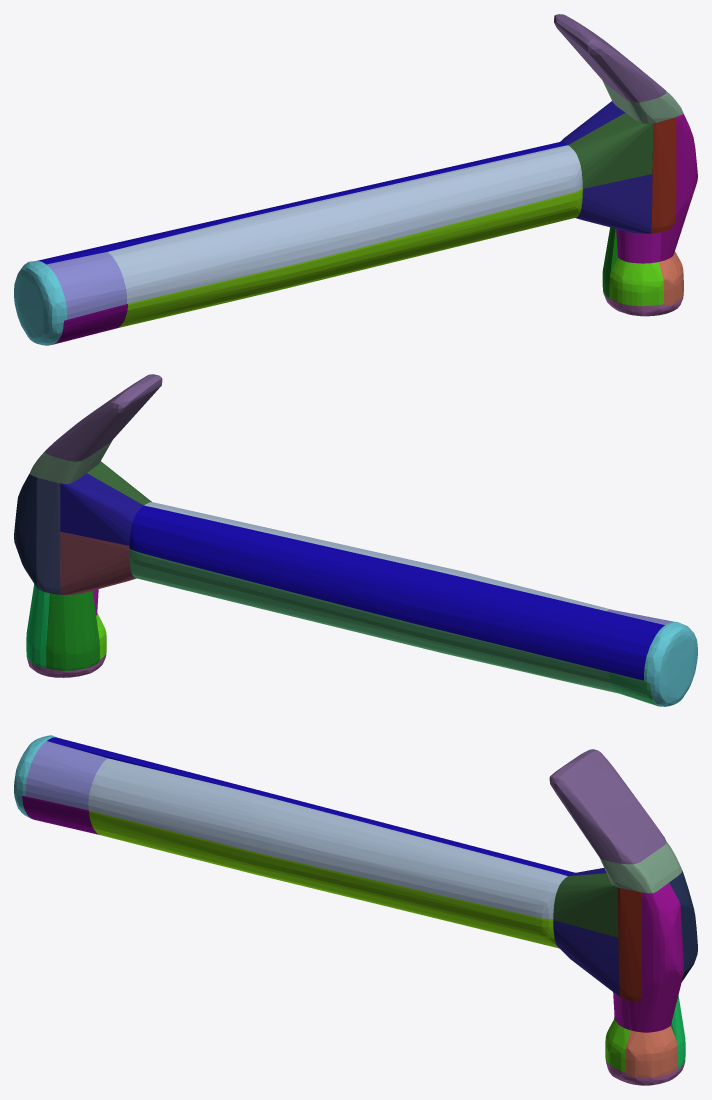
Rendered from coacd_collision.obj.
3 renders of one model, top to bottom at view 1: azimuth 30°, elevation 25°; view 2: azimuth 150°, elevation 25°; view 3: azimuth 330°, elevation 25°, orthographic.
Visible parts, largest first — view 1: geometry_6, geometry_4, geometry_19, geometry_12, geometry_1, geometry_2, geometry_18, geometry_5, geometry_15, geometry_14, geometry_17, geometry_0 (+6 smaller); view 2: geometry_5, geometry_3, geometry_20, geometry_8, geometry_1, geometry_13, geometry_2, geometry_16, geometry_6, geometry_21, geometry_23, geometry_0 (+3 smaller); view 3: geometry_6, geometry_4, geometry_1, geometry_14, geometry_12, geometry_19, geometry_5, geometry_18, geometry_15, geometry_9, geometry_0, geometry_11 (+5 smaller).
Part boxes in pixels (x1,y1,x2,y2): geometry_6: (108, 145, 582, 303); geometry_4: (117, 188, 582, 328); geometry_19: (568, 113, 653, 188); geometry_12: (46, 252, 126, 319); geometry_1: (554, 14, 666, 102); geometry_2: (14, 261, 67, 345); geometry_18: (575, 174, 652, 233); geometry_5: (37, 142, 567, 264); geometry_15: (650, 117, 676, 233); geometry_14: (660, 114, 697, 261); geometry_17: (609, 258, 663, 306); geometry_0: (602, 80, 683, 123); geometry_5: (129, 505, 664, 680); geometry_3: (129, 548, 618, 693); geometry_20: (60, 473, 143, 545); geometry_8: (46, 591, 99, 670); geometry_1: (45, 374, 162, 461); geometry_13: (60, 531, 136, 594); geometry_2: (644, 621, 697, 706); geometry_16: (36, 477, 61, 594); geometry_6: (144, 502, 610, 610); geometry_21: (14, 474, 37, 588); geometry_23: (26, 584, 49, 668); geometry_0: (29, 440, 112, 483); geometry_6: (88, 758, 567, 918); geometry_4: (89, 810, 558, 948); geometry_1: (549, 749, 666, 864); geometry_14: (628, 883, 683, 1032); geometry_12: (25, 741, 107, 809); geometry_19: (553, 873, 618, 937); geometry_5: (47, 737, 575, 875); geometry_18: (553, 920, 619, 996); geometry_15: (617, 887, 642, 1002); geometry_9: (625, 1026, 677, 1077); geometry_0: (599, 841, 682, 893); geometry_11: (22, 795, 99, 834).
Size of the model in its own units: 303 by 130 by 34.55.
